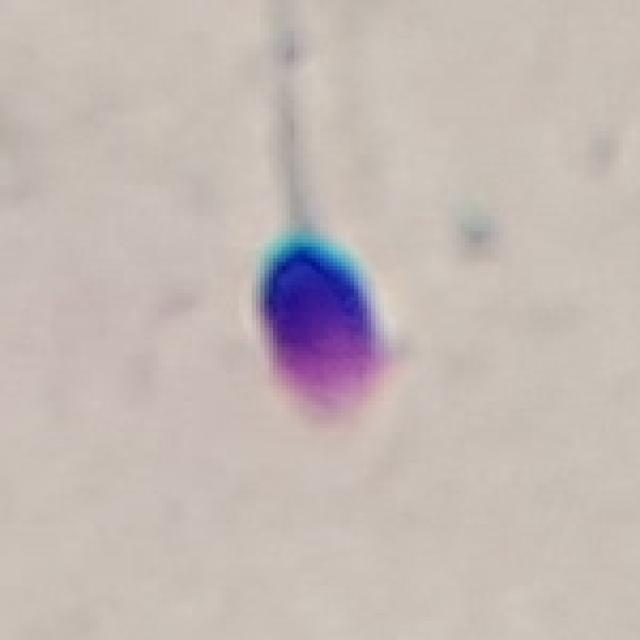normal sperm: (246, 150, 385, 417)
